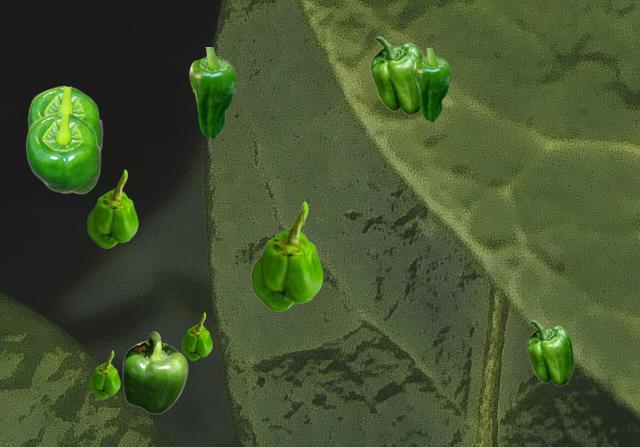bell_pepper: (251, 201, 322, 310), (25, 111, 100, 193), (122, 331, 187, 413), (27, 85, 102, 151), (189, 47, 235, 138), (370, 36, 423, 114), (87, 169, 137, 247), (526, 320, 573, 385), (413, 48, 450, 121), (181, 312, 211, 359), (89, 350, 119, 397)
